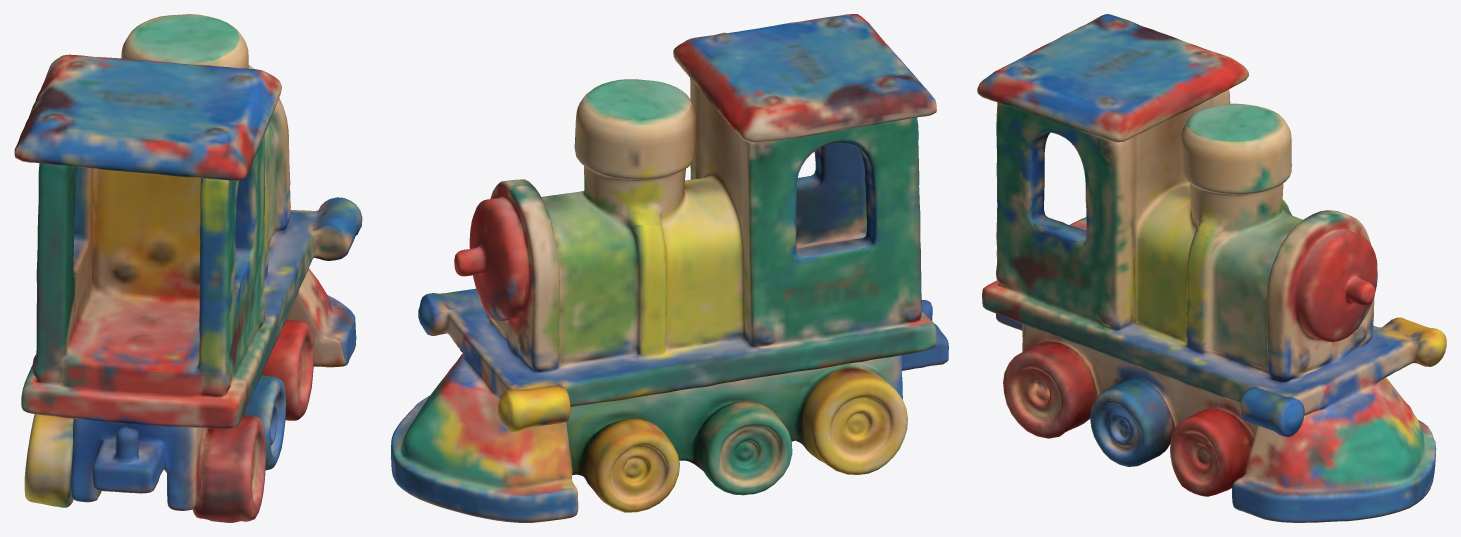
3 views of the same model, side by side, from view 1: azimuth 30°, elevation 25°; view 2: azimuth 150°, elevation 25°; view 3: azimuth 270°, elevation 25° (orthographic). The views are drawn at different scales.
Visible parts, largest first — view 1: TrainLP; view 2: TrainLP; view 3: TrainLP.
Part boxes in pixels (left/top/right/bottom): TrainLP: left=14, top=14, right=362, bottom=522; TrainLP: left=391, top=14, right=948, bottom=522; TrainLP: left=977, top=14, right=1446, bottom=522.
Bounding box in the file's own units: 23.65 × 20.54 × 24.85.
Materials: 1 (1 with a texture image).
